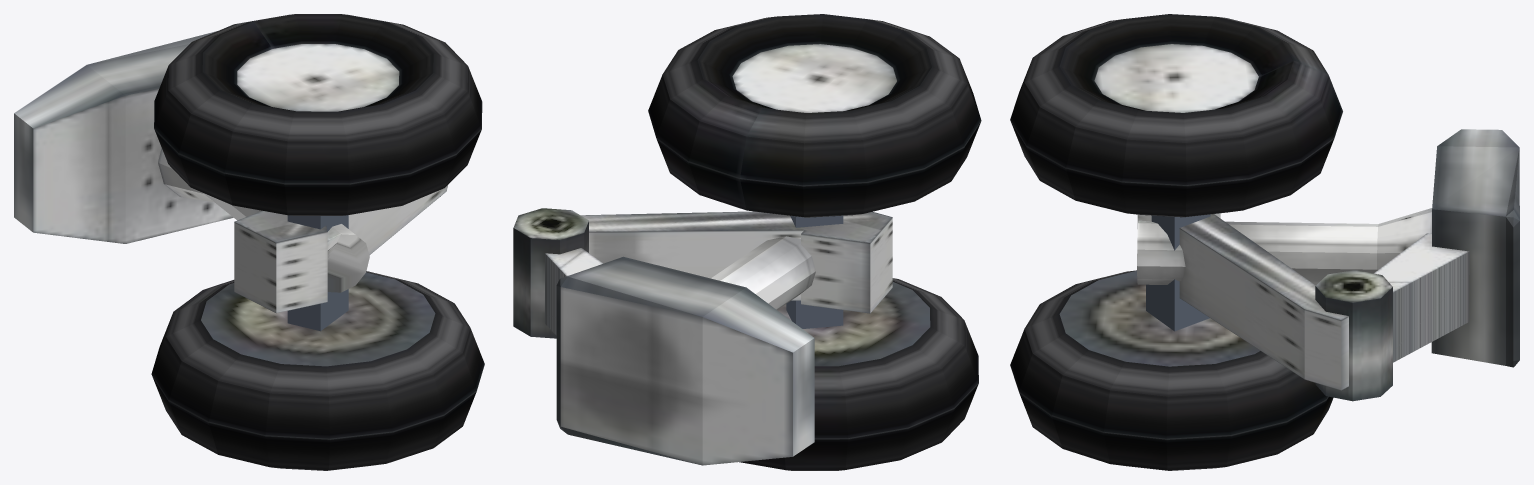
The model's file is trainAvDirectionnel.fbx.
3 renders of one model, left to right at view 1: azimuth 30°, elevation 25°; view 2: azimuth 150°, elevation 25°; view 3: azimuth 270°, elevation 25°, orthographic.
Visible parts, largest first — view 1: ShapeIndexedFaceSet; view 2: ShapeIndexedFaceSet; view 3: ShapeIndexedFaceSet.
Boxes of the visible parts, x1,y1,x2,y2 form: ShapeIndexedFaceSet: (14, 14, 484, 470); ShapeIndexedFaceSet: (513, 14, 981, 470); ShapeIndexedFaceSet: (1010, 14, 1519, 470).
Size of the model in its own units: 0.535 by 0.5097 by 0.6578.
